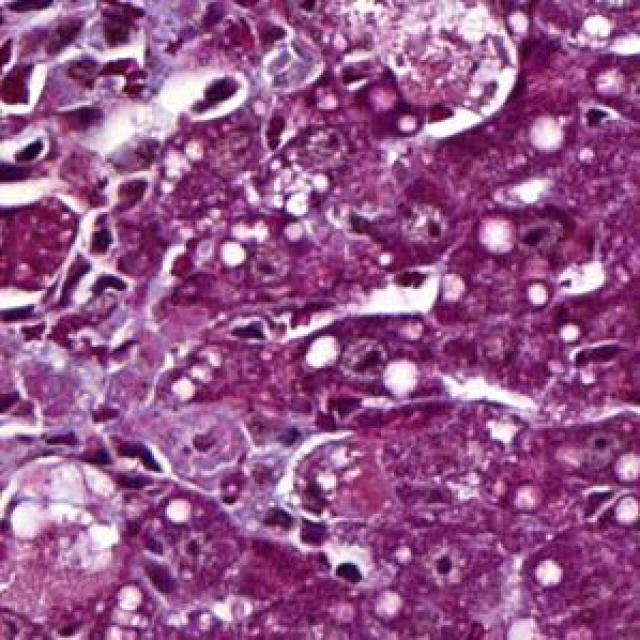ballooning: (330, 0, 522, 146), (0, 451, 126, 612)
